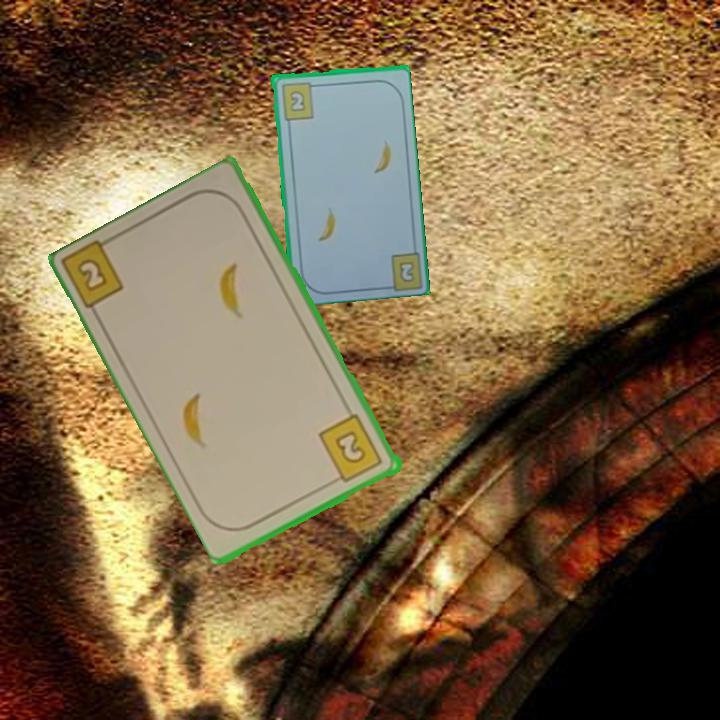2b: (315, 411, 386, 486), (278, 78, 320, 122), (73, 254, 111, 295), (395, 257, 418, 285)
